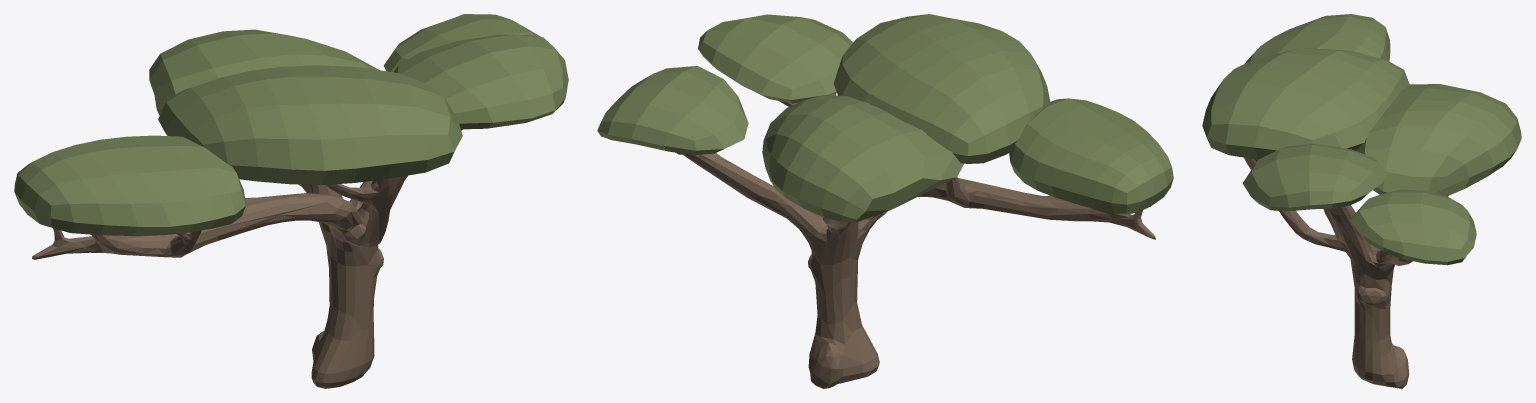
The model's file is tree-16.fbx.
3 renders of one model, left to right at view 1: azimuth 30°, elevation 25°; view 2: azimuth 150°, elevation 25°; view 3: azimuth 270°, elevation 25°, orthographic. The views are drawn at different scales.
Visible parts, largest first — view 1: Cube.078, Cube.077, Cube.064, Cube.081, Cube.079, Cube.080; view 2: Cube.078, Cube.079, Cube.064, Cube.077, Cube.081, Cube.080; view 3: Cube.078, Cube.079, Cube.064, Cube.081, Cube.080, Cube.077.
Boxes of the visible parts, x1,y1,x2,y2 form: Cube.078: [158, 65, 462, 185]; Cube.077: [14, 135, 245, 235]; Cube.064: [32, 129, 462, 388]; Cube.081: [394, 34, 568, 129]; Cube.079: [149, 29, 379, 115]; Cube.080: [383, 14, 540, 72]; Cube.078: [833, 14, 1050, 163]; Cube.079: [762, 95, 963, 222]; Cube.064: [676, 92, 1155, 388]; Cube.077: [1009, 98, 1173, 214]; Cube.081: [698, 14, 852, 103]; Cube.080: [597, 66, 748, 154]; Cube.078: [1202, 48, 1409, 159]; Cube.079: [1356, 84, 1521, 196]; Cube.064: [1244, 157, 1448, 388]; Cube.081: [1242, 144, 1388, 211]; Cube.080: [1349, 189, 1476, 265]; Cube.077: [1244, 14, 1390, 63].
Size of the model in its own units: 2736 by 1665 by 1674.
